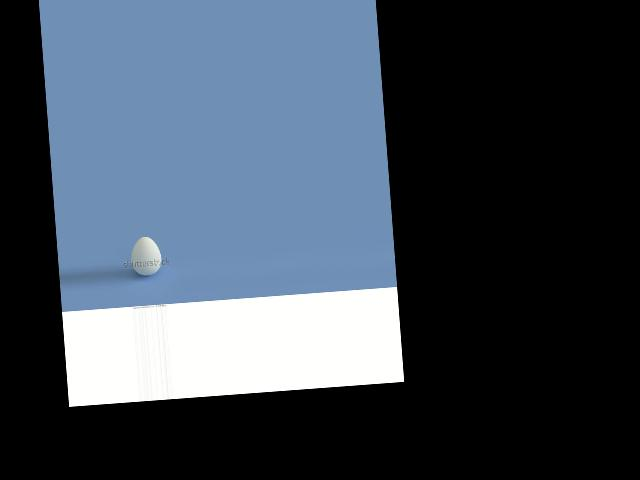egg: (129, 235, 163, 276)
